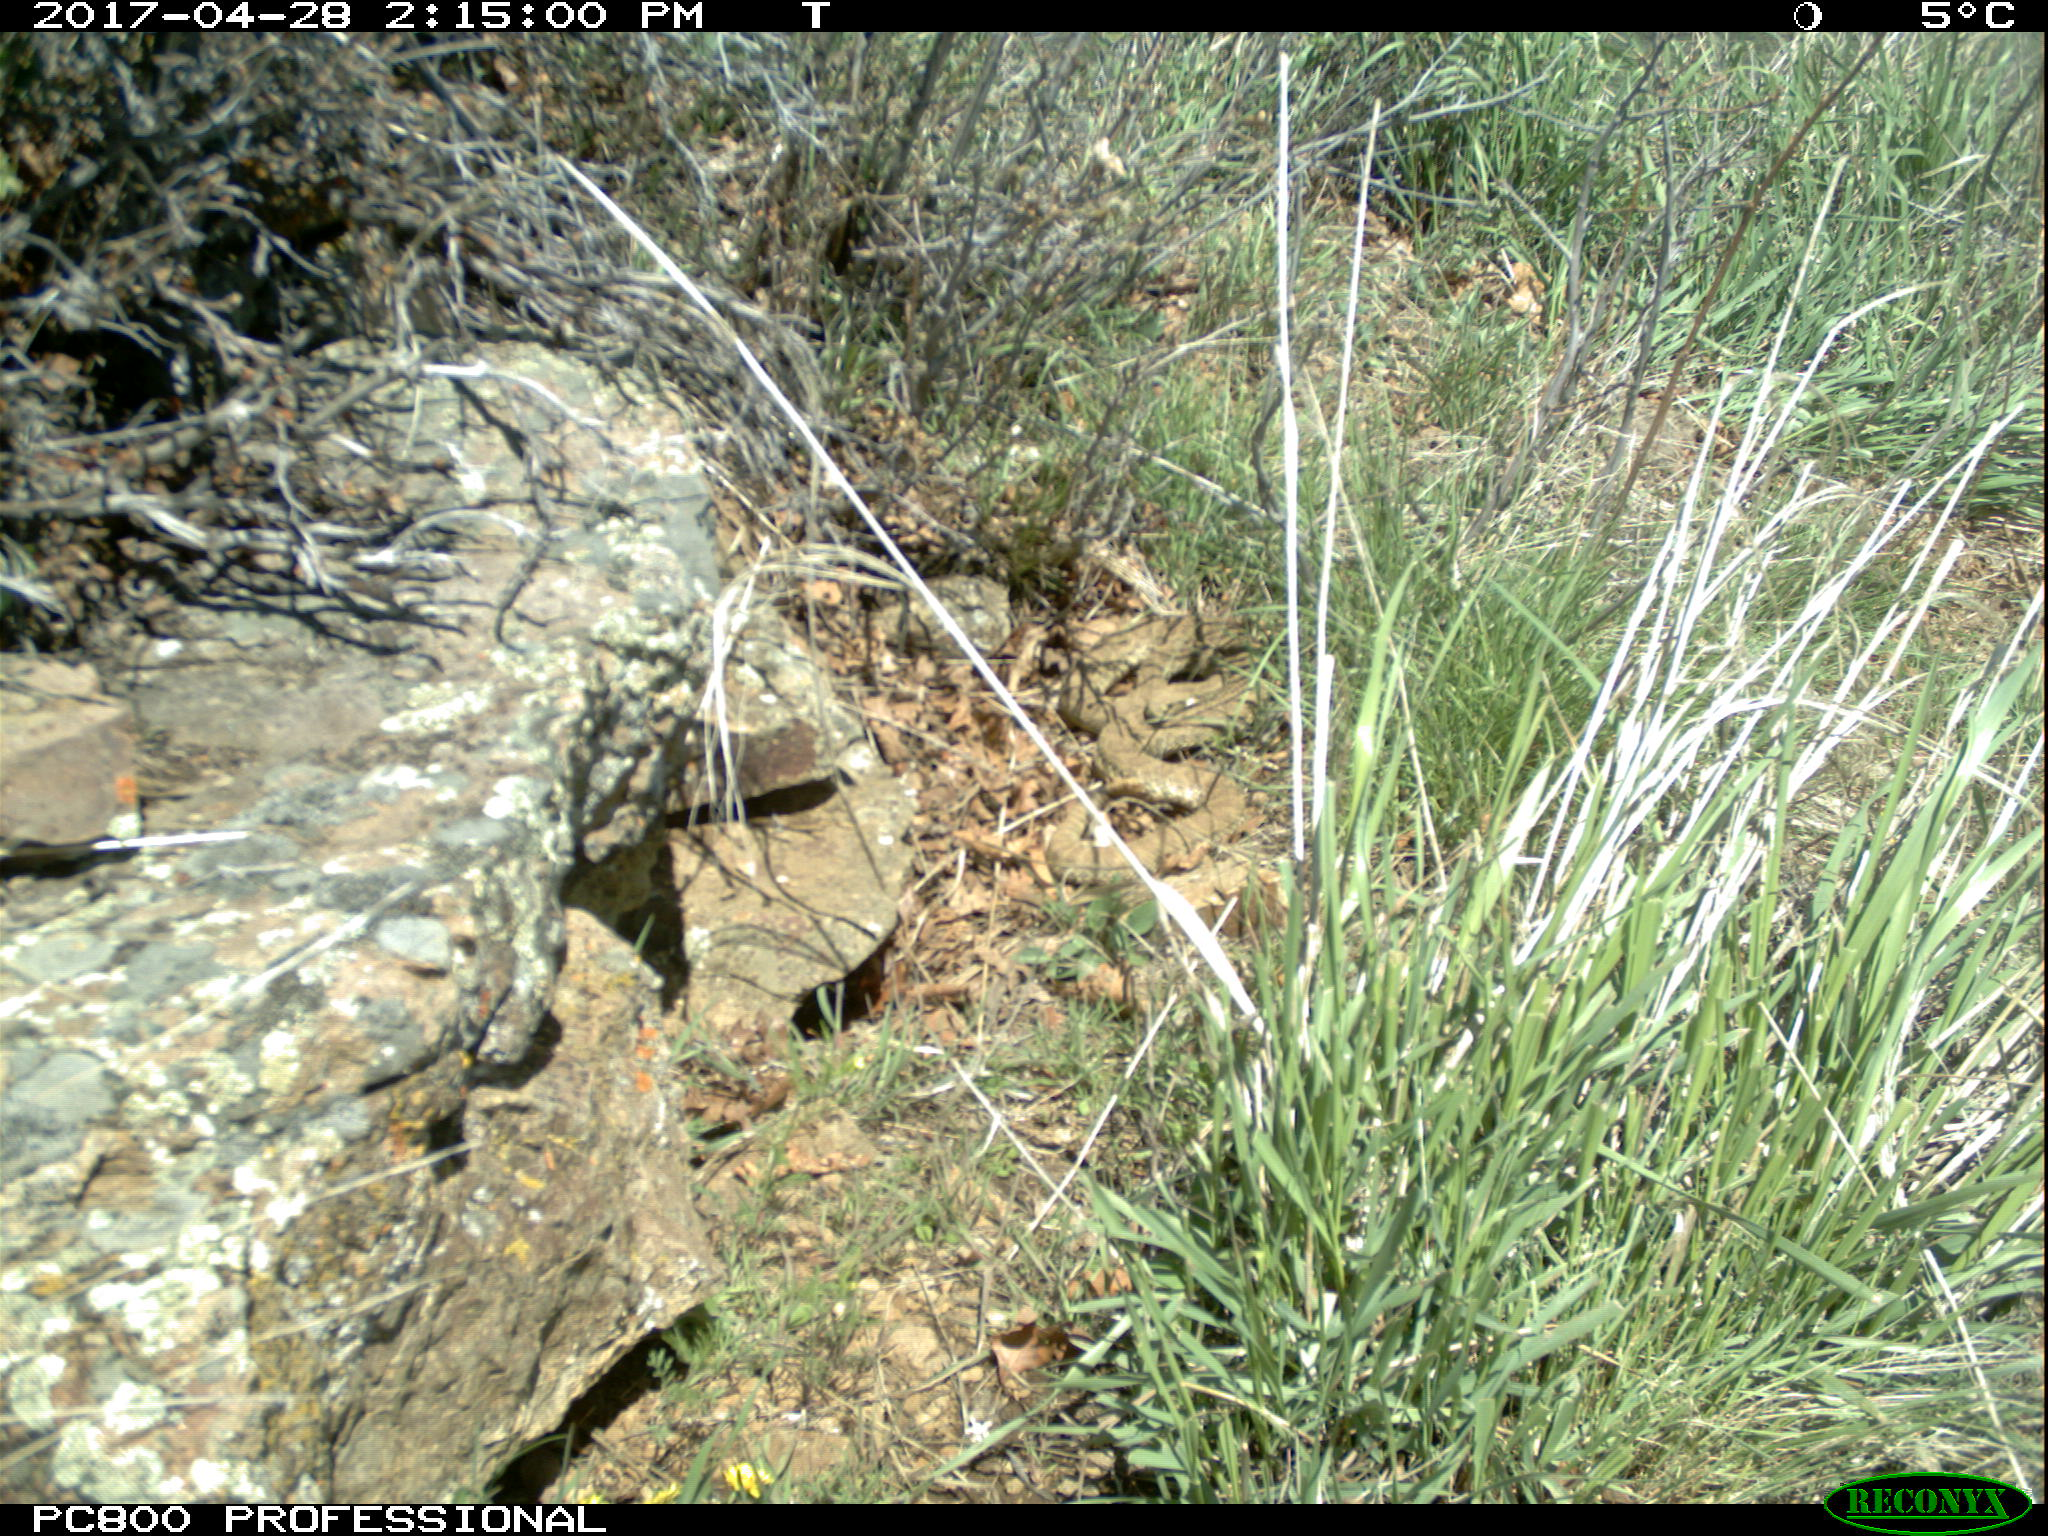snake: (1040, 712, 1250, 892), (1055, 605, 1284, 715)
